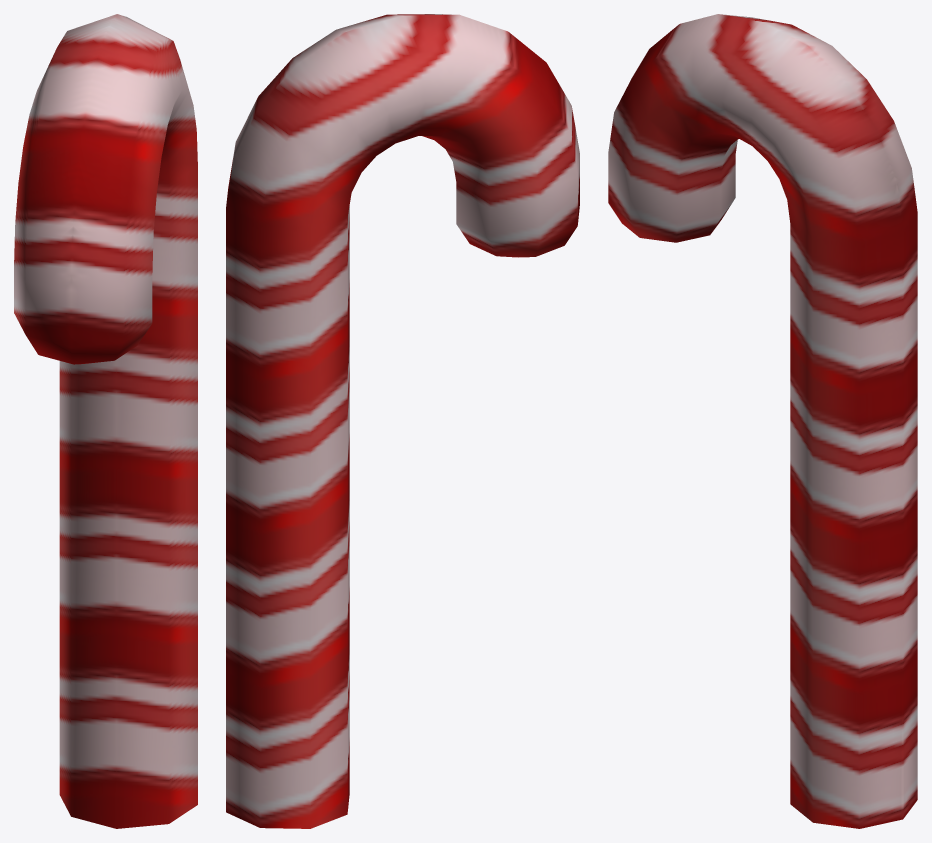
Rendered from cane.gltf.
3 views of the same model, side by side, from view 1: azimuth 30°, elevation 25°; view 2: azimuth 150°, elevation 25°; view 3: azimuth 270°, elevation 25° (orthographic). The views are drawn at different scales.
Visible parts, largest first — view 1: CandyCane_02; view 2: CandyCane_02; view 3: CandyCane_02.
Part boxes in pixels (x1,y1,x2,y2): CandyCane_02: (14,14,197,828); CandyCane_02: (226,14,579,828); CandyCane_02: (608,14,917,828).
Size of the model in its own units: 0.4416 by 1.3 by 0.4878.
Materials: 1 (1 with a texture image).
